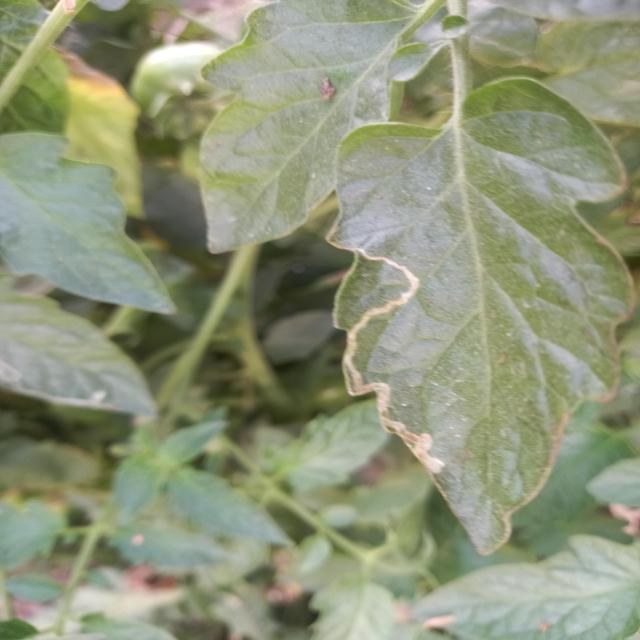Tuta absoluta: (324, 251, 456, 488)
